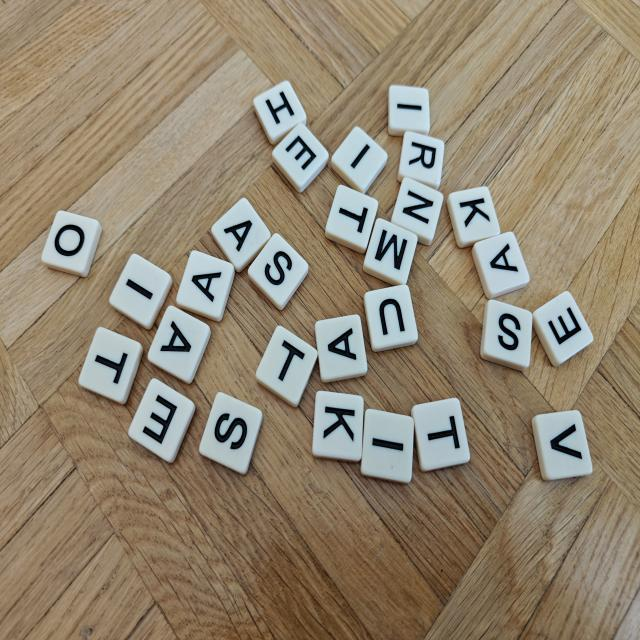a: (148, 306, 211, 383), (212, 198, 271, 272), (177, 251, 235, 321), (472, 232, 529, 298), (315, 315, 368, 382)
e: (129, 379, 195, 462), (532, 291, 593, 366), (272, 124, 328, 192)
h: (253, 81, 306, 144)
i: (109, 254, 172, 329), (361, 409, 414, 483), (332, 126, 387, 193), (388, 85, 430, 136)
k: (312, 391, 364, 461), (447, 186, 501, 247)
m: (363, 218, 417, 285)
n: (391, 178, 443, 245)
o: (42, 211, 101, 277)
r: (398, 131, 444, 189)
s: (199, 392, 262, 474), (248, 233, 308, 309), (480, 300, 532, 370)
t: (256, 326, 318, 406), (79, 328, 143, 404), (411, 398, 470, 471), (325, 185, 378, 253)
u: (364, 285, 418, 351)
v: (532, 410, 592, 480)
